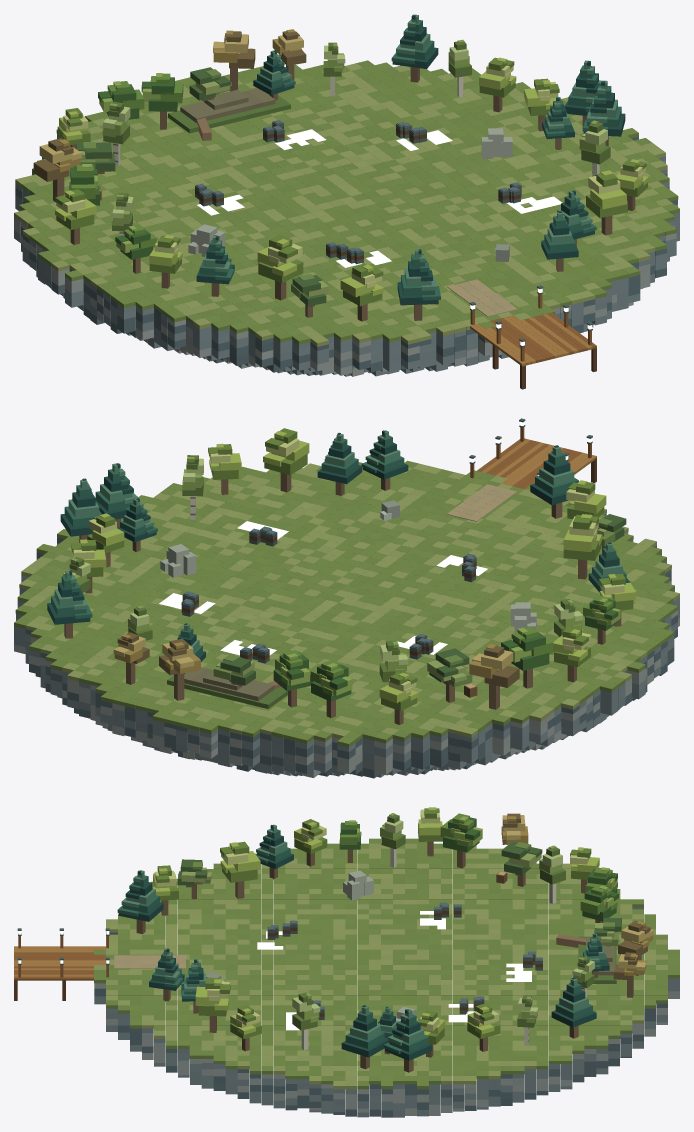
File: landing_purified.glb
3 views of the same model, one above another, from view 1: azimuth 30°, elevation 25°; view 2: azimuth 150°, elevation 25°; view 3: azimuth 270°, elevation 25° (orthographic). The views are drawn at different scales.
Parts seen in each view (by area): view 1: landing_blocks, tree4_(0, 0).006, tree2_(0, 0).009, tree2_(0, 0).005, tree4_(0, 0).005, tree5_(0, 0).002, tree4_(0, 0).001, tree0_(0, 0).004, tree5_(0, 0).001, tree4_(0, 0).007, tree2_(0, 0).003, tree2_(0, 0).004 (+24 smaller); view 2: landing_blocks, tree2_(0, 0).009, tree4_(0, 0).005, tree5_(0, 0).002, tree0_(0, 0).002, tree2_(0, 0).005, tree4_(0, 0).006, tree0_(0, 0).001, tree2_(0, 0).003, tree2_(0, 0).007, tree2_(0, 0).006, tree2_(0, 0).002 (+22 smaller); view 3: landing_blocks, tree2_(0, 0).006, tree2_(0, 0).009, tree2_(0, 0).003, tree4_(0, 0).006, tree2_(0, 0).005, tree0_(0, 0).002, tree4_(0, 0).005, tree2_(0, 0).004, tree3_(0, 0).001, tree0_(0, 0).004, tree2_(0, 0).002 (+22 smaller).
Boxes of the visible parts, x1=… form: landing_blocks: x1=14, y1=60, x2=679, y2=389; tree4_(0, 0).006: x1=257, y1=235, x2=303, y2=300; tree2_(0, 0).009: x1=397, y1=249, x2=440, y2=320; tree2_(0, 0).005: x1=391, y1=14, x2=438, y2=82; tree4_(0, 0).005: x1=586, y1=170, x2=627, y2=235; tree5_(0, 0).002: x1=33, y1=138, x2=81, y2=202; tree4_(0, 0).001: x1=340, y1=263, x2=383, y2=321; tree0_(0, 0).004: x1=141, y1=73, x2=183, y2=129; tree5_(0, 0).001: x1=213, y1=30, x2=255, y2=91; tree4_(0, 0).007: x1=55, y1=189, x2=96, y2=244; tree2_(0, 0).003: x1=583, y1=80, x2=625, y2=146; tree2_(0, 0).004: x1=196, y1=235, x2=234, y2=296; landing_blocks: x1=14, y1=418, x2=679, y2=778; tree2_(0, 0).009: x1=530, y1=445, x2=578, y2=518; tree4_(0, 0).005: x1=263, y1=428, x2=309, y2=492; tree5_(0, 0).002: x1=469, y1=643, x2=519, y2=709; tree0_(0, 0).002: x1=501, y1=626, x2=553, y2=688; tree2_(0, 0).005: x1=47, y1=570, x2=92, y2=638; tree4_(0, 0).006: x1=563, y1=514, x2=602, y2=579; tree0_(0, 0).001: x1=310, y1=659, x2=352, y2=718; tree2_(0, 0).003: x1=95, y1=463, x2=138, y2=527; tree2_(0, 0).007: x1=317, y1=432, x2=362, y2=495; tree2_(0, 0).006: x1=60, y1=478, x2=101, y2=542; tree2_(0, 0).002: x1=361, y1=430, x2=408, y2=490; landing_blocks: x1=14, y1=838, x2=679, y2=1117; tree2_(0, 0).006: x1=383, y1=1009, x2=432, y2=1072; tree2_(0, 0).009: x1=117, y1=870, x2=163, y2=934; tree2_(0, 0).003: x1=341, y1=1005, x2=388, y2=1069; tree4_(0, 0).006: x1=220, y1=841, x2=260, y2=898; tree2_(0, 0).005: x1=551, y1=977, x2=596, y2=1038; tree0_(0, 0).002: x1=440, y1=813, x2=482, y2=868; tree4_(0, 0).005: x1=195, y1=977, x2=230, y2=1032; tree2_(0, 0).004: x1=256, y1=824, x2=293, y2=879; tree3_(0, 0).001: x1=501, y1=841, x2=542, y2=886; tree0_(0, 0).004: x1=580, y1=885, x2=618, y2=922; tree2_(0, 0).002: x1=149, y1=948, x2=184, y2=1001.
Bounding box in the file's own units: 61.24 × 17.29 × 69.62.
